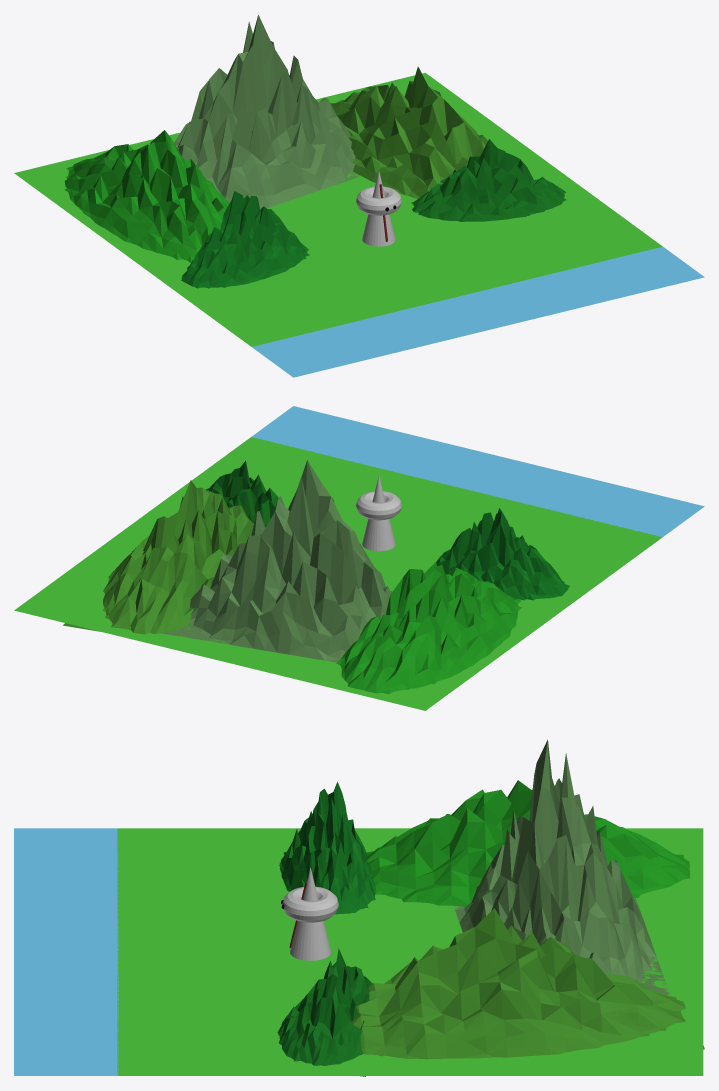
The model's file is daejeon.glb.
3 renders of one model, top to bottom at view 1: azimuth 30°, elevation 25°; view 2: azimuth 150°, elevation 25°; view 3: azimuth 270°, elevation 25°, orthographic. The views are drawn at different scales.
Visible parts, largest first — view 1: Plane, LowPolyMountain, Plane.001, LowPolyMountain2.001, LowPolyMountain1, LowPolyMountain1.001, LowPolyMountain2, Cone, Torus; view 2: Plane, LowPolyMountain, Plane.001, LowPolyMountain2.001, LowPolyMountain1, LowPolyMountain2, LowPolyMountain1.001, Cone, Torus; view 3: Plane, LowPolyMountain1, Plane.001, LowPolyMountain, LowPolyMountain2.001, LowPolyMountain2, LowPolyMountain1.001, Cone, Torus.
Boxes of the visible parts, <box> form: Plane: <box>14,72,662,346</box>; LowPolyMountain: <box>174,15,359,209</box>; Plane.001: <box>252,246,704,377</box>; LowPolyMountain2.001: <box>64,130,229,262</box>; LowPolyMountain1: <box>330,66,487,198</box>; LowPolyMountain1.001: <box>411,139,566,221</box>; LowPolyMountain2: <box>181,191,309,288</box>; Cone: <box>362,171,395,246</box>; Torus: <box>356,186,401,215</box>; Plane: <box>14,437,662,710</box>; LowPolyMountain: <box>160,460,391,662</box>; Plane.001: <box>251,406,704,537</box>; LowPolyMountain2.001: <box>336,562,521,694</box>; LowPolyMountain1: <box>63,480,253,634</box>; LowPolyMountain2: <box>436,508,569,600</box>; LowPolyMountain1.001: <box>205,460,278,527</box>; Cone: <box>362,476,395,551</box>; Torus: <box>356,491,401,520</box>; Plane: <box>117,828,703,1075</box>; LowPolyMountain1: <box>352,908,704,1059</box>; Plane.001: <box>14,828,118,1075</box>; LowPolyMountain: <box>454,739,669,995</box>; LowPolyMountain2.001: <box>366,780,690,907</box>; LowPolyMountain2: <box>279,781,375,914</box>; LowPolyMountain1.001: <box>277,948,372,1076</box>; Cone: <box>290,867,331,960</box>; Torus: <box>282,886,338,922</box>.
Bounding box in the file's own units: 16 × 6.07 × 18.86.
